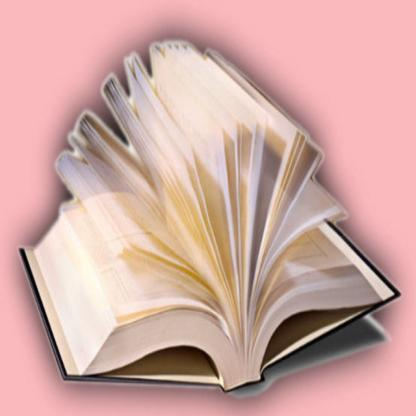book: (17, 41, 391, 416)
